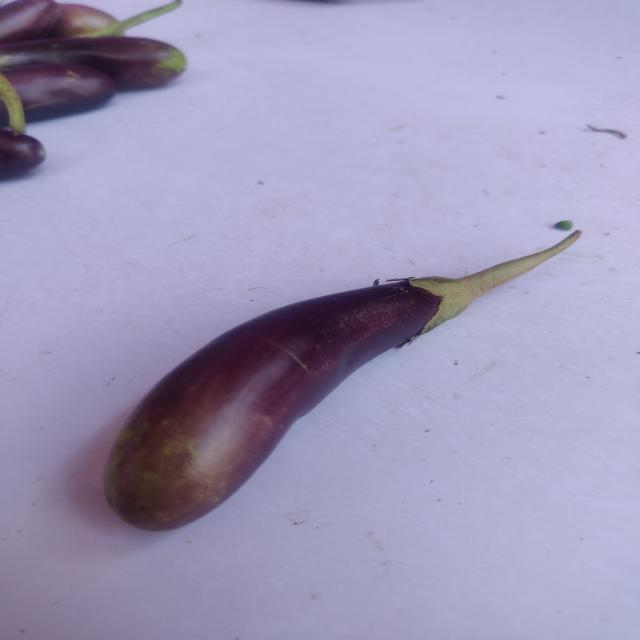Brinjal: (95, 165, 628, 541)
